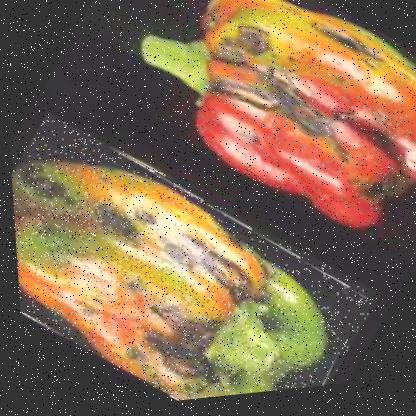capsicum_rotten: (6, 85, 383, 415)
